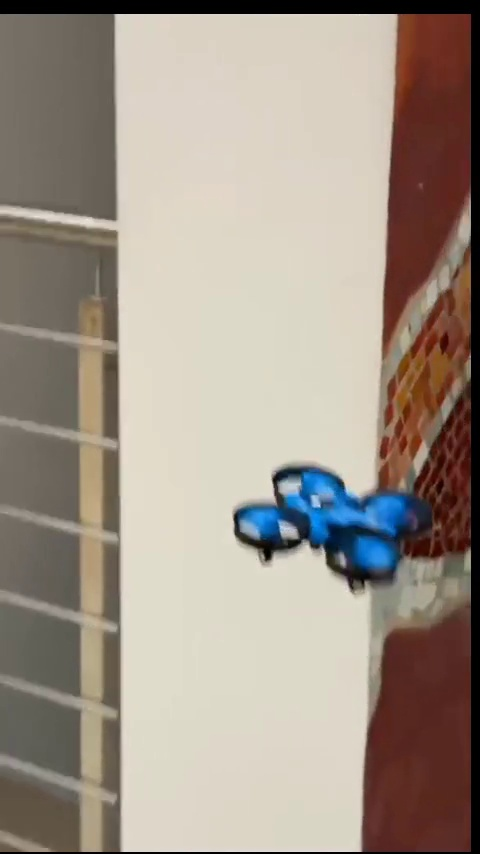drone: (233, 469, 424, 590)
